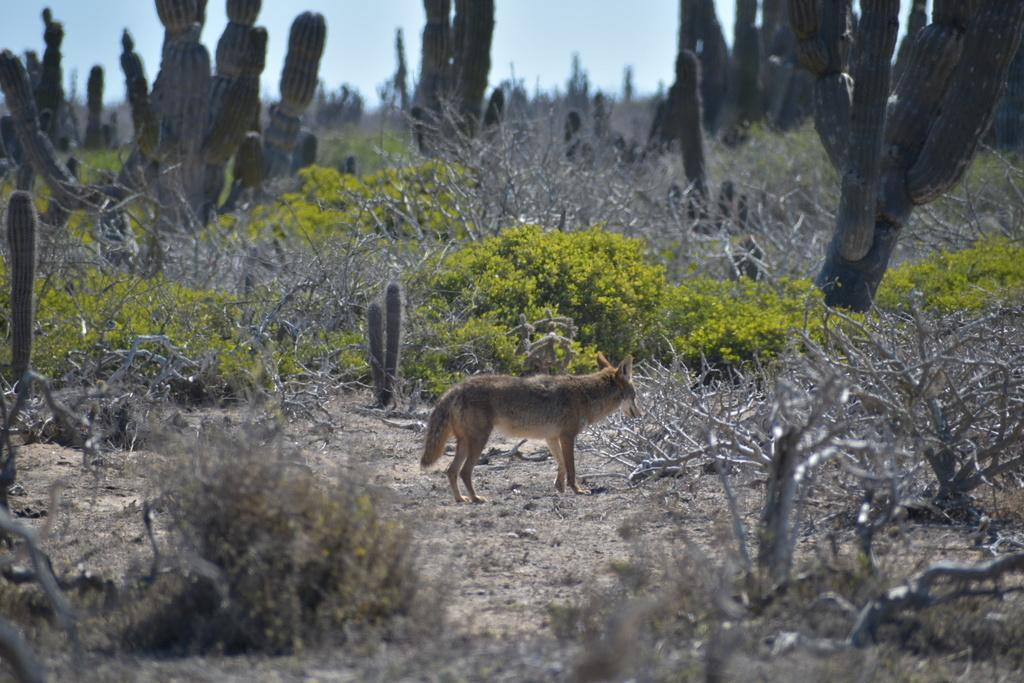Coyote: (419, 349, 639, 505)
